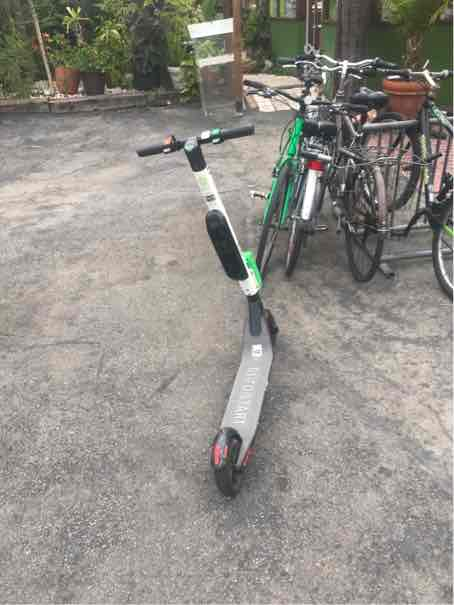scooter: (127, 118, 303, 517)
